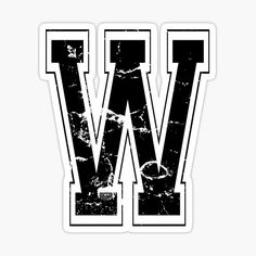w: (24, 16, 240, 236)
